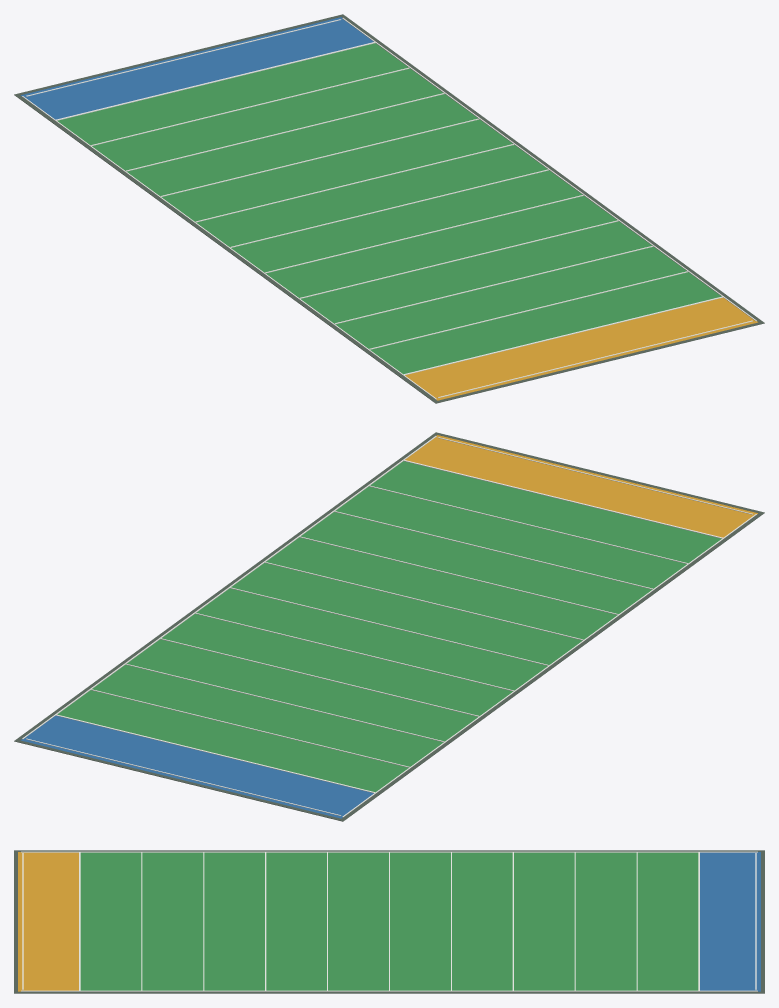
File: football_field.glb
The picture shows the model from 3 angles, top to bottom: view 1: azimuth 30°, elevation 25°; view 2: azimuth 150°, elevation 25°; view 3: azimuth 270°, elevation 25°; orthographic projection. The views are drawn at different scales.
Parts seen in each view (by area): view 1: Turf Base, End Zone South, End Zone North, Sideline Left, Sideline Right, End Border South, End Border North, Boundary Right, Boundary Left, Goal Line North, Goal Line South; view 2: Turf Base, End Zone North, End Zone South, Sideline Left, Sideline Right, End Border North, End Border South, Boundary Right, Boundary Left, Goal Line South, Goal Line North; view 3: Turf Base, End Zone North, End Zone South, Sideline Right, Sideline Left, Boundary Right, Boundary Left, End Border North, End Border South, Goal Line North, Goal Line South, End Zone Stripe North (+1 smaller).
Part boxes in pixels (box(x1,y1,x2,y2)): Turf Base: box(57, 43, 721, 374); End Zone South: box(405, 297, 758, 400); End Zone North: box(21, 17, 373, 119); Sideline Left: box(16, 95, 437, 401); Sideline Right: box(342, 16, 762, 322); End Border South: box(434, 321, 764, 403); End Border North: box(14, 14, 344, 96); Boundary Right: box(342, 18, 756, 321); Boundary Left: box(22, 96, 436, 399); Goal Line North: box(54, 41, 376, 120); Goal Line South: box(402, 296, 723, 375); Turf Base: box(57, 461, 721, 792); End Zone North: box(20, 715, 373, 818); End Zone South: box(405, 435, 757, 537); Sideline Left: box(341, 513, 762, 819); Sideline Right: box(16, 434, 436, 740); End Border North: box(14, 739, 344, 821); End Border South: box(434, 432, 764, 514); Boundary Right: box(22, 436, 436, 739); Boundary Left: box(342, 514, 756, 817); Goal Line South: box(402, 459, 723, 538); Goal Line North: box(55, 714, 376, 793); Turf Base: box(80, 852, 698, 990); End Zone North: box(700, 852, 760, 991); End Zone South: box(18, 852, 78, 991); Sideline Right: box(18, 991, 760, 993); Sideline Left: box(18, 850, 760, 851); Boundary Right: box(21, 990, 757, 991); Boundary Left: box(21, 851, 757, 852); End Border North: box(761, 850, 764, 993); End Border South: box(14, 850, 17, 993); Goal Line North: box(698, 851, 699, 991); Goal Line South: box(79, 851, 80, 991); End Zone Stripe North: box(755, 853, 756, 990).
Bounding box in the file's own units: 54.63 × 0.412 × 121.
